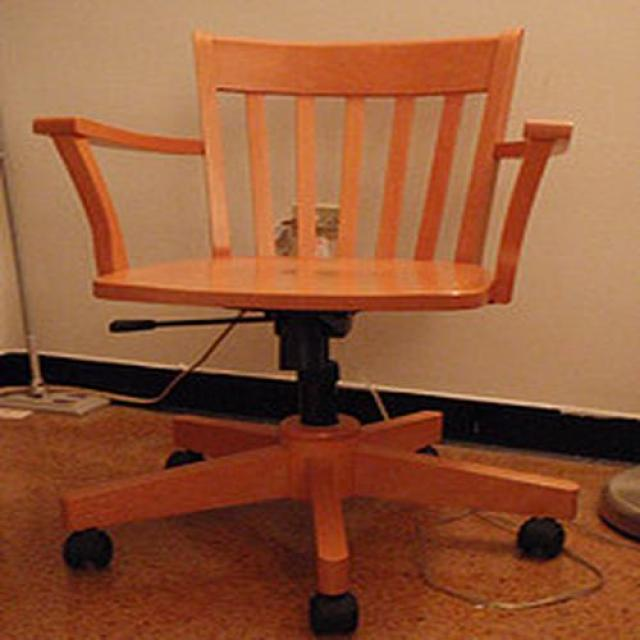swivelchair: (32, 29, 581, 637)
